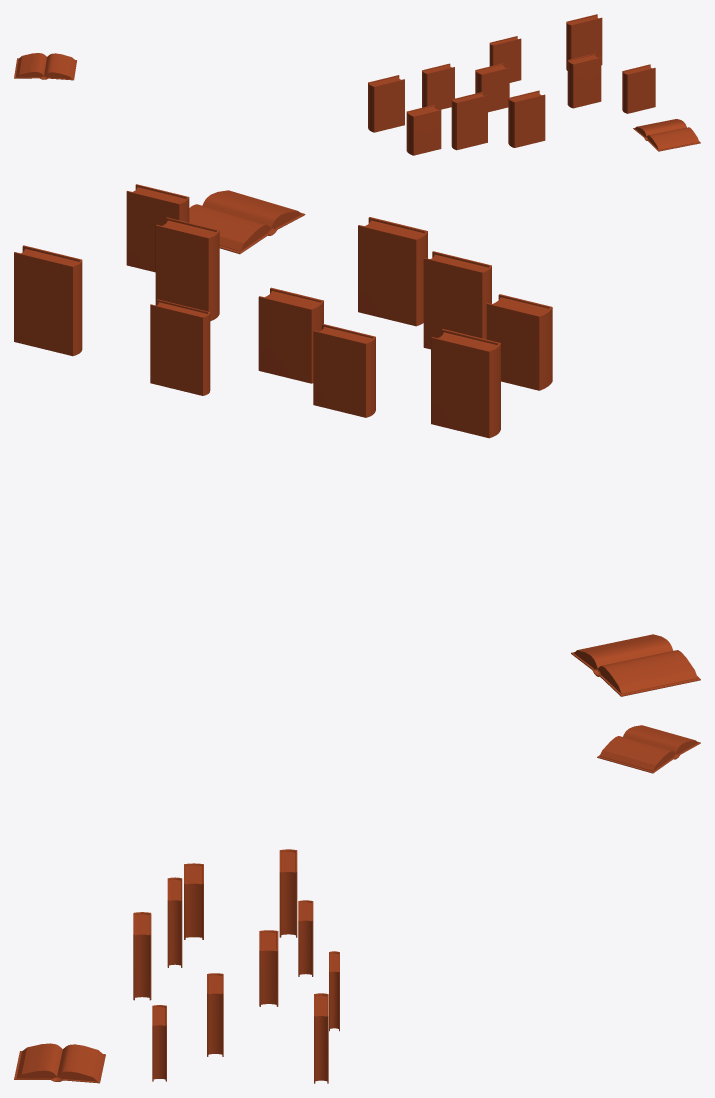
The model's file is Books_high.fbx.
The picture shows the model from 3 angles, top to bottom: view 1: azimuth 30°, elevation 25°; view 2: azimuth 150°, elevation 25°; view 3: azimuth 270°, elevation 25°; orthographic projection. The views are drawn at different scales.
Parts seen in each view (by area): view 1: Closed_Book_08_high, Closed_Book_06_high, Closed_Book_04_high, Closed_Book_10_high, Closed_Book_09_high, Closed_Book_02_high, Open_Book_high, Closed_Book_07_high, Open_Book_02_high, Closed_Book_03_high, Closed_Book_05_high, Closed_Book_01_high; view 2: Closed_Book_04_high, Closed_Book_02_high, Closed_Book_08_high, Closed_Book_10_high, Closed_Book_06_high, Closed_Book_01_high, Closed_Book_03_high, Closed_Book_09_high, Closed_Book_05_high, Open_Book_high, Open_Book_02_high, Closed_Book_07_high; view 3: Open_Book_02_high, Open_Book_high, Closed_Book_08_high, Closed_Book_04_high, Closed_Book_09_high, Closed_Book_05_high, Closed_Book_06_high, Closed_Book_10_high, Closed_Book_02_high, Closed_Book_03_high, Closed_Book_07_high, Closed_Book_01_high.
Part boxes in pixels (box(x1,y1,x2,y2)): Closed_Book_08_high: box(508, 90, 545, 147); Closed_Book_06_high: box(451, 92, 487, 150); Closed_Book_04_high: box(368, 75, 404, 132); Closed_Book_10_high: box(567, 53, 601, 108); Closed_Book_09_high: box(406, 104, 441, 155); Closed_Book_02_high: box(566, 14, 602, 70); Open_Book_high: box(14, 53, 76, 80); Closed_Book_07_high: box(622, 64, 655, 113); Open_Book_02_high: box(633, 119, 700, 151); Closed_Book_03_high: box(422, 63, 454, 109); Closed_Book_05_high: box(475, 63, 509, 112); Closed_Book_01_high: box(489, 36, 521, 82); Closed_Book_04_high: box(431, 329, 500, 438); Closed_Book_02_high: box(14, 245, 82, 356); Closed_Book_08_high: box(358, 217, 427, 326); Closed_Book_10_high: box(155, 217, 219, 321); Closed_Book_06_high: box(423, 251, 491, 349); Closed_Book_01_high: box(150, 299, 210, 395); Closed_Book_03_high: box(313, 324, 375, 417); Closed_Book_09_high: box(486, 294, 552, 390); Closed_Book_05_high: box(258, 287, 323, 383); Open_Book_high: box(571, 634, 700, 696); Open_Book_02_high: box(189, 190, 305, 254); Closed_Book_07_high: box(126, 184, 189, 272); Open_Book_02_high: box(14, 1043, 105, 1083); Open_Book_high: box(597, 725, 700, 773); Closed_Book_08_high: box(133, 912, 151, 1000); Closed_Book_04_high: box(279, 849, 297, 937); Closed_Book_09_high: box(184, 863, 203, 939); Closed_Book_05_high: box(259, 930, 278, 1006); Closed_Book_06_high: box(167, 877, 182, 967); Closed_Book_10_high: box(207, 973, 223, 1056); Closed_Book_02_high: box(314, 993, 328, 1083); Closed_Book_03_high: box(298, 900, 313, 976); Closed_Book_07_high: box(152, 1005, 166, 1081); Closed_Book_01_high: box(329, 951, 339, 1031).
Bounding box in the file's own units: 3.07 × 0.2994 × 2.69.
